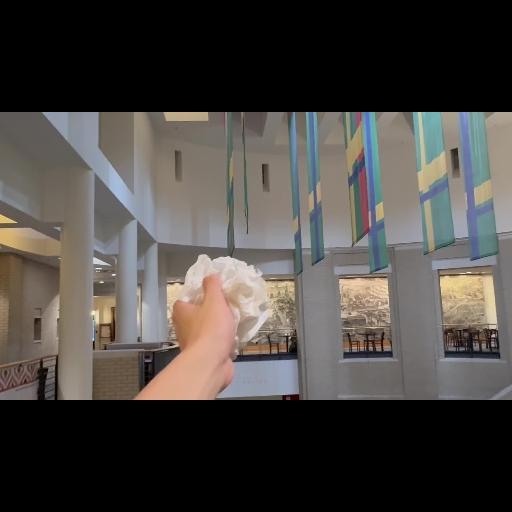napkin: (177, 252, 277, 358)
